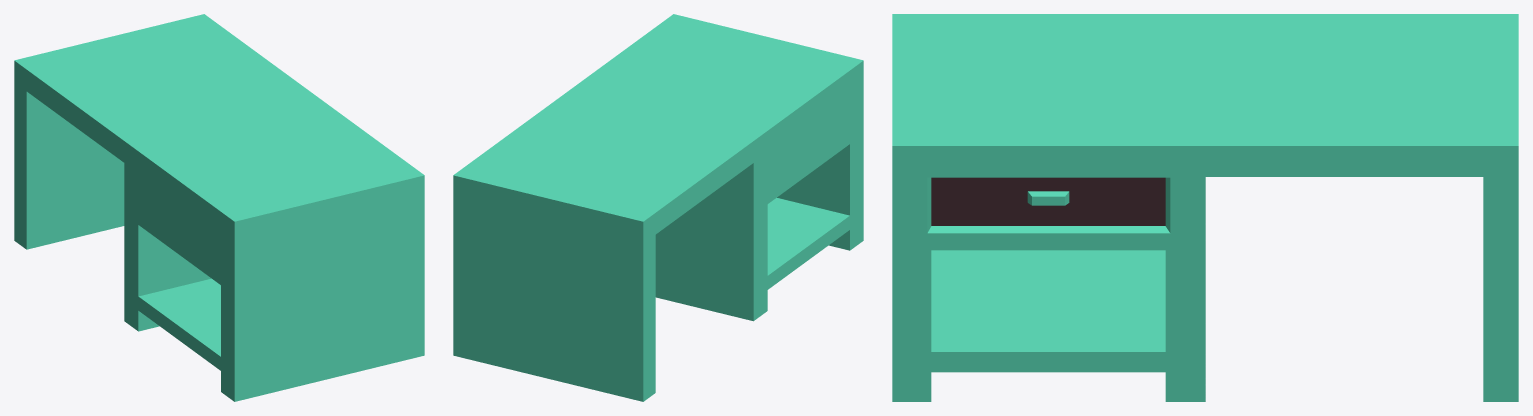
Rendered from Desk.fbx.
The picture shows the model from 3 angles, left to right: view 1: azimuth 30°, elevation 25°; view 2: azimuth 150°, elevation 25°; view 3: azimuth 270°, elevation 25°; orthographic projection. The views are drawn at different scales.
Visible parts, largest first — view 1: Cube; view 2: Cube; view 3: Cube.
Boxes of the visible parts, left/top/right/bottom form: Cube: left=14, top=14, right=424, bottom=401; Cube: left=453, top=14, right=863, bottom=401; Cube: left=892, top=14, right=1518, bottom=401.
Size of the model in its own units: 267 by 242 by 535.
